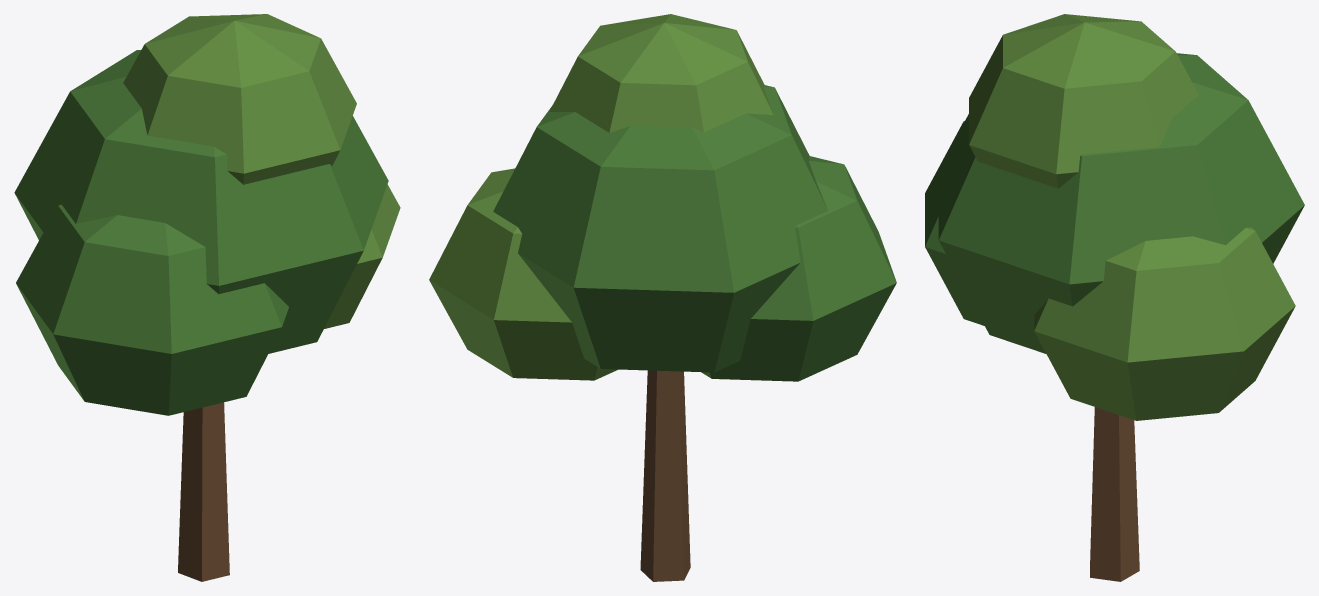
Rendered from oak_low.glb.
3 views of the same model, side by side, from view 1: azimuth 30°, elevation 25°; view 2: azimuth 150°, elevation 25°; view 3: azimuth 270°, elevation 25° (orthographic). The views are drawn at different scales.
Visible parts, largest first — view 1: oak_low; view 2: oak_low; view 3: oak_low.
Boxes of the visible parts, box(x1,y1,x2,y2) form: oak_low: box(14, 14, 400, 581); oak_low: box(429, 14, 896, 581); oak_low: box(925, 14, 1304, 581).
Size of the model in its own units: 5.02 by 6.69 by 4.14.
